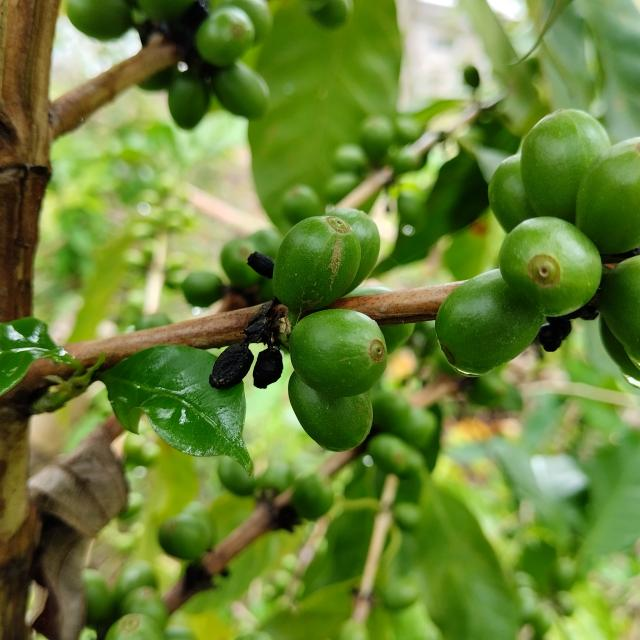green: (436, 269, 546, 376), (500, 216, 603, 317), (521, 109, 612, 222), (273, 215, 361, 315), (289, 309, 388, 397), (577, 136, 640, 254), (288, 372, 373, 452), (326, 208, 381, 294), (601, 255, 640, 369), (489, 153, 537, 232), (195, 5, 255, 66), (211, 59, 270, 118), (66, 0, 131, 40), (168, 70, 209, 129), (104, 615, 164, 640)
